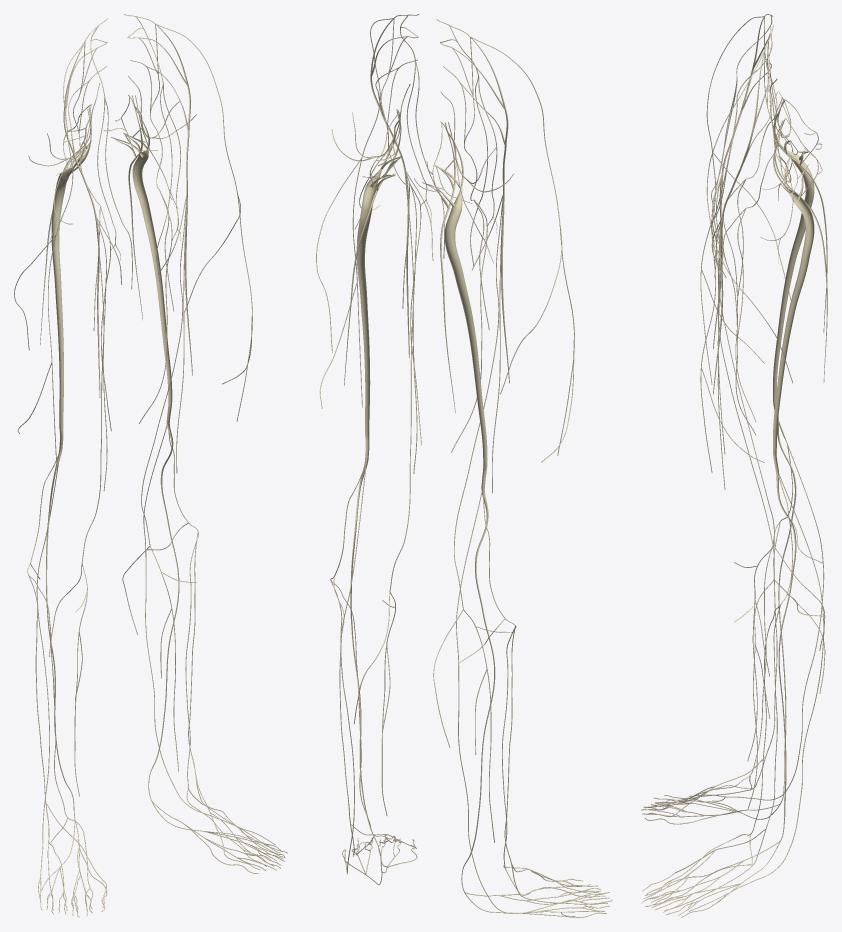
Rendered from z-nervous-lower-limbs.glb.
The picture shows the model from 3 angles, left to right: view 1: azimuth 30°, elevation 25°; view 2: azimuth 150°, elevation 25°; view 3: azimuth 270°, elevation 25°; orthographic projection. The views are drawn at different scales.
Parts seen in each view (by area): view 1: nervous-sciatic-nerve-right, nervous-sciatic-nerve-left, nervous-z-saphenous-nerve-left, nervous-femoral-nerve-left, nervous-z-saphenous-nerve-right, nervous-femoral-nerve-right, nervous-lateral-femoral-cutaneous-nerve-right, nervous-lateral-femoral-cutaneous-nerve-left, nervous-tibial-nerve-left, nervous-tibial-nerve-right, nervous-z-sural-nerve-left; view 2: nervous-sciatic-nerve-right, nervous-sciatic-nerve-left, nervous-z-saphenous-nerve-left, nervous-z-saphenous-nerve-right, nervous-femoral-nerve-right, nervous-lateral-femoral-cutaneous-nerve-right, nervous-lateral-femoral-cutaneous-nerve-left, nervous-femoral-nerve-left, nervous-tibial-nerve-left, nervous-tibial-nerve-right, nervous-z-sural-nerve-right; view 3: nervous-sciatic-nerve-left, nervous-sciatic-nerve-right, nervous-z-saphenous-nerve-left, nervous-z-saphenous-nerve-right, nervous-lateral-femoral-cutaneous-nerve-left, nervous-femoral-nerve-left, nervous-lateral-femoral-cutaneous-nerve-right, nervous-tibial-nerve-left, nervous-tibial-nerve-right, nervous-femoral-nerve-right, nervous-z-sural-nerve-left, nervous-z-sural-nerve-right (+4 smaller).
Boxes of the visible parts, x1,y1,x2,y2 form: nervous-sciatic-nerve-right: (51, 106, 91, 447); nervous-sciatic-nerve-left: (110, 95, 172, 420); nervous-z-saphenous-nerve-left: (122, 195, 187, 772); nervous-femoral-nerve-left: (124, 14, 192, 375); nervous-z-saphenous-nerve-right: (49, 219, 106, 796); nervous-femoral-nerve-right: (63, 18, 107, 397); nervous-lateral-femoral-cutaneous-nerve-right: (14, 41, 85, 465); nervous-lateral-femoral-cutaneous-nerve-left: (155, 24, 252, 421); nervous-tibial-nerve-left: (148, 420, 179, 799); nervous-tibial-nerve-right: (46, 447, 74, 817); nervous-z-sural-nerve-left: (143, 509, 275, 845); nervous-sciatic-nerve-right: (422, 122, 487, 486); nervous-sciatic-nerve-left: (356, 110, 399, 457); nervous-z-saphenous-nerve-left: (353, 170, 416, 815); nervous-z-saphenous-nerve-right: (433, 200, 502, 842); nervous-femoral-nerve-right: (436, 18, 509, 383); nervous-lateral-femoral-cutaneous-nerve-right: (470, 36, 574, 462); nervous-lateral-femoral-cutaneous-nerve-left: (316, 18, 393, 408); nervous-femoral-nerve-left: (370, 14, 418, 358); nervous-tibial-nerve-left: (350, 457, 381, 870); nervous-tibial-nerve-right: (461, 486, 495, 891); nervous-z-sural-nerve-right: (456, 610, 599, 916); nervous-sciatic-nerve-left: (773, 120, 814, 468); nervous-sciatic-nerve-right: (773, 99, 814, 416); nervous-z-saphenous-nerve-left: (716, 215, 825, 809); nervous-z-saphenous-nerve-right: (716, 175, 825, 761); nervous-lateral-femoral-cutaneous-nerve-left: (700, 51, 792, 472); nervous-femoral-nerve-left: (713, 24, 773, 394); nervous-lateral-femoral-cutaneous-nerve-right: (700, 16, 791, 384); nervous-tibial-nerve-left: (775, 468, 796, 840); nervous-tibial-nerve-right: (777, 417, 796, 802); nervous-femoral-nerve-right: (713, 14, 773, 349); nervous-z-sural-nerve-left: (689, 569, 824, 911); nervous-z-sural-nerve-right: (689, 521, 824, 801).
Size of the model in its own units: 0.3366 by 1.11 by 0.2243.
